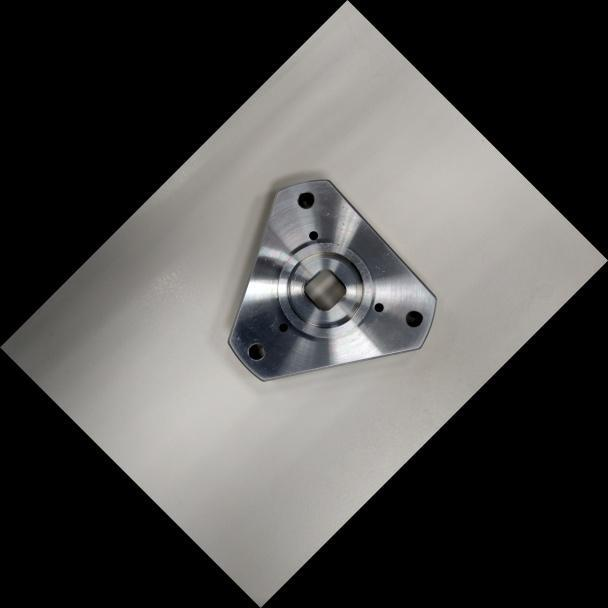hole: (241, 336, 271, 366), (291, 185, 320, 214), (400, 304, 428, 333), (305, 226, 321, 243), (275, 319, 292, 335), (371, 299, 387, 315)
